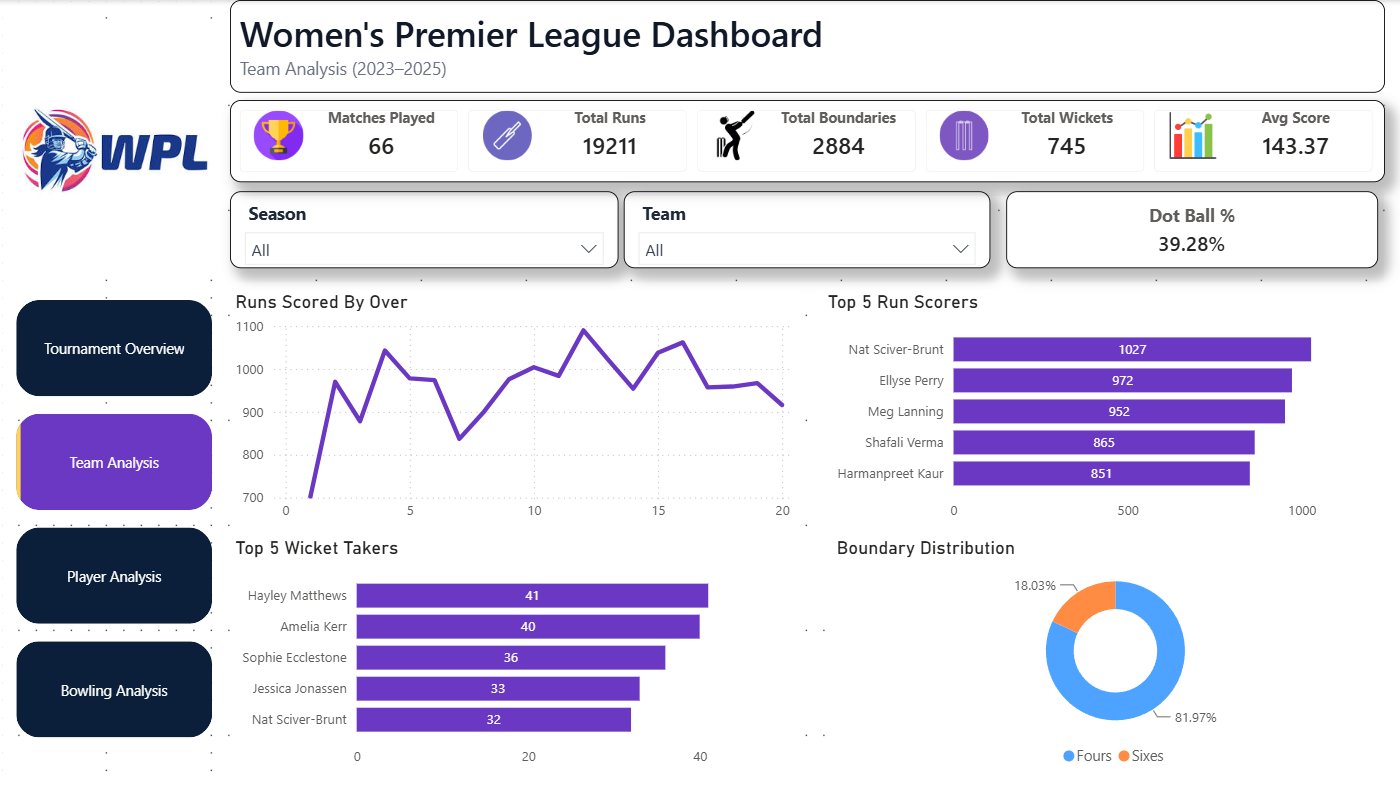

Layout of this report page (visuals, bound fields, positions):
{"tool":"powerbi","page":{"name":"Team Analysis","canvas":[1280,720],"ordinal":1},"visuals":[{"type":"slicer","fields":{"Values":["fact_ball_by_ball.season"]},"box":[210,175,355,70],"z":0},{"type":"slicer","fields":{"Values":["fact_ball_by_ball.batting_team"]},"box":[570,175,335,70],"z":1000},{"type":"textbox","box":[210,0,1056,85],"z":2000},{"type":"cardVisual","fields":{"Data":["Tournament KPI's.Matches Played","Tournament KPI's.Total Runs","Tournament KPI's.Total Boundaries","Tournament KPI's.Total Wickets","fact_ball_by_ball.Average Score per Innings"]},"box":[210,91,1056,75],"z":3000},{"type":"lineChart","title":"Runs Scored By Over","fields":{"Y":["Tournament KPI's.Total Runs"],"Category":["fact_ball_by_ball.Over Number"]},"box":[210,265,520,220],"z":4000},{"type":"clusteredBarChart","title":"Top 5 Run Scorers ","fields":{"Category":["fact_ball_by_ball.striker_full"],"Y":["Tournament KPI's.Total Runs"]},"box":[752,265,520,220],"z":5000},{"type":"clusteredBarChart","title":"Top 5 Wicket Takers","fields":{"Category":["fact_ball_by_ball.bowler_full"],"Y":["Tournament KPI's.Total Wickets"]},"box":[210,490,520,220],"z":6000},{"type":"donutChart","title":"Boundary Distribution","fields":{"Category":["Boundary Type.Boundary"],"Y":["Boundary Type.Boundary Count"]},"box":[760,490,520,220],"z":7000},{"type":"cardVisual","fields":{"Data":["fact_ball_by_ball.Dot Ball %"]},"box":[920,175,340,70],"z":8000},{"type":"pageNavigator","box":[15,274.4,179,400.6],"z":8000,"group":"g1"},{"type":"group","id":"g1","title":"Group 1","box":[15,25,180,650],"z":8001},{"type":"image","box":[16,25,179,224.3],"z":9001,"group":"g1"}]}

Visuals, with their boxes in screenshot pixels (x1, y1, x2, y2), scaled from the page's 1280x720 canvas onto the 1400x785 screenshot:
slicer - fact_ball_by_ball.season: <box>230,191,618,267</box>
slicer - fact_ball_by_ball.batting_team: <box>623,191,990,267</box>
textbox: <box>230,0,1385,93</box>
cardVisual - Tournament KPI's.Matches Played x Tournament KPI's.Total Runs: <box>230,99,1385,181</box>
"Runs Scored By Over" lineChart: <box>230,289,798,529</box>
"Top 5 Run Scorers " clusteredBarChart: <box>822,289,1391,529</box>
"Top 5 Wicket Takers" clusteredBarChart: <box>230,534,798,774</box>
"Boundary Distribution" donutChart: <box>831,534,1399,774</box>
cardVisual - fact_ball_by_ball.Dot Ball %: <box>1006,191,1378,267</box>
pageNavigator: <box>16,299,212,736</box>
"Group 1" group: <box>16,27,213,736</box>
image: <box>18,27,213,272</box>
